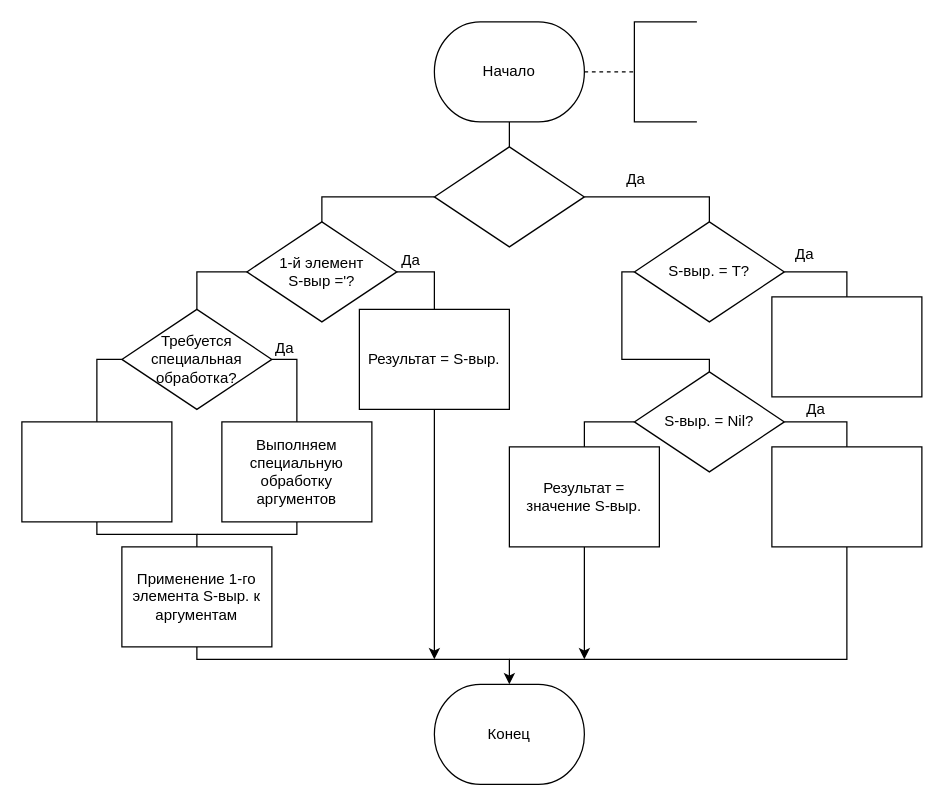
The diagram is 944 pixels wide and 806 high, and some of its shapes have lost their labels. Each missing label, with the box of its shape:
eval: (633, 21, 697, 122)
S-выр. это атом?: (433, 146, 584, 247)
Вычисление всех аргументов с помощью eval: (21, 421, 172, 522)
Результат = Nil: (771, 446, 922, 547)
Результат = T: (771, 296, 922, 397)
